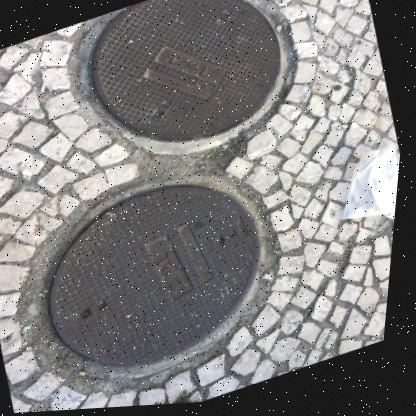Plastic: (345, 148, 403, 224)
Waste: (330, 119, 341, 126), (363, 226, 367, 235)
